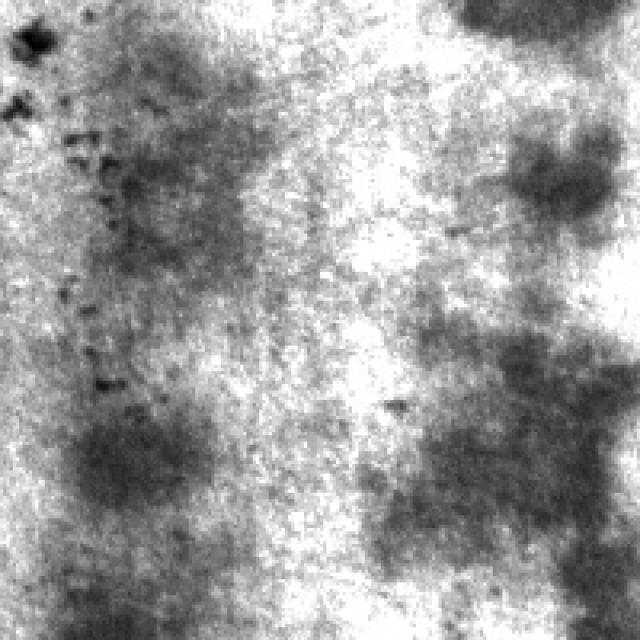inclusion: (6, 6, 80, 128)
patches: (374, 310, 640, 621), (74, 3, 275, 307), (61, 388, 224, 518), (41, 528, 182, 634), (502, 115, 628, 224), (451, 0, 634, 51)
